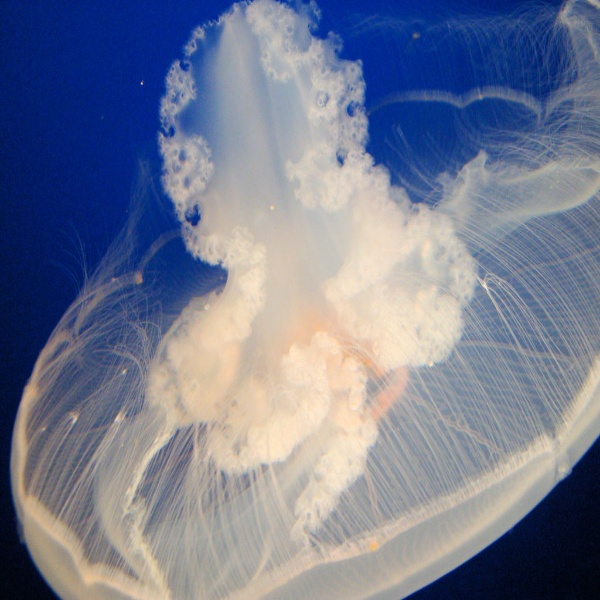Jellyfish: (8, 0, 598, 599)
